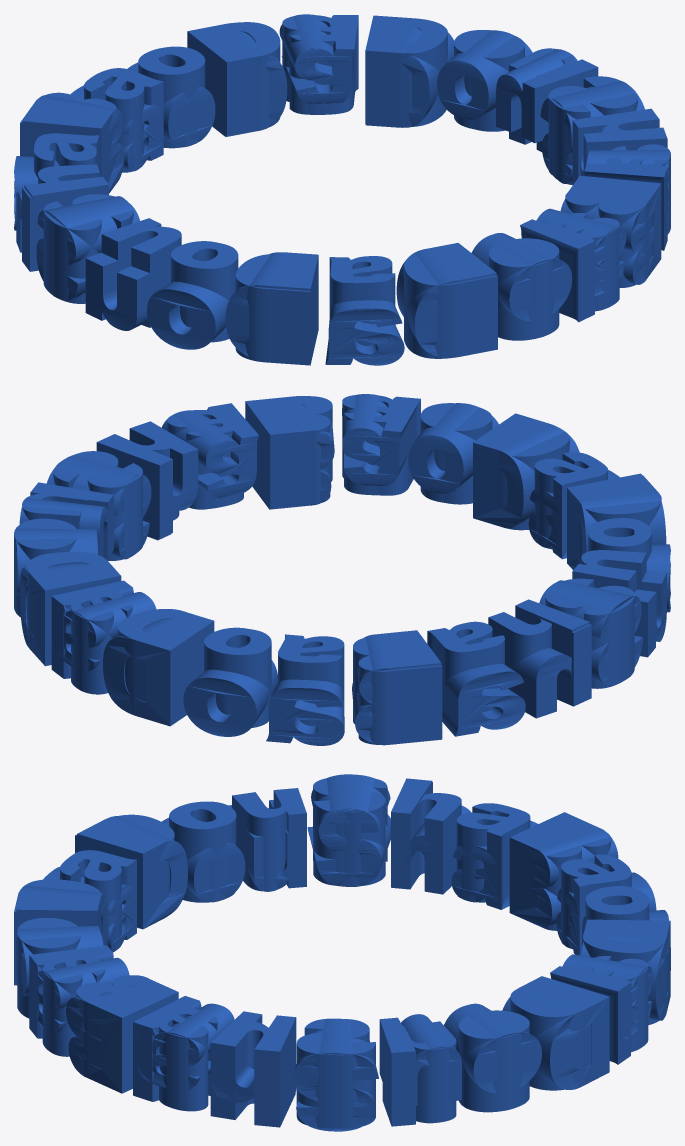
File: DaDouShaBao.glb
3 views of the same model, one above another, from view 1: azimuth 30°, elevation 25°; view 2: azimuth 150°, elevation 25°; view 3: azimuth 270°, elevation 25° (orthographic).
Parts seen in each view (by area): view 1: 文本, 文本.003, 文本.001, 文本.002; view 2: 文本.003, 文本, 文本.001, 文本.002; view 3: 文本.002, 文本.003, 文本, 文本.001.
Boxes of the visible parts, left/top/right/bottom form: 文本: left=20, top=46, right=497, bottom=365; 文本.003: left=187, top=14, right=669, bottom=320; 文本.001: left=14, top=62, right=496, bottom=365; 文本.002: left=187, top=15, right=670, bottom=340; 文本.003: left=15, top=394, right=498, bottom=726; 文本: left=204, top=431, right=661, bottom=745; 文本.001: left=183, top=413, right=670, bottom=745; 文本.002: left=14, top=395, right=492, bottom=723; 文本.002: left=17, top=918, right=670, bottom=1128; 文本.003: left=16, top=919, right=670, bottom=1131; 文本: left=14, top=778, right=649, bottom=985; 文本.001: left=16, top=774, right=670, bottom=984.
Bounding box in the file's own units: 4.07 × 0.5474 × 4.05.
